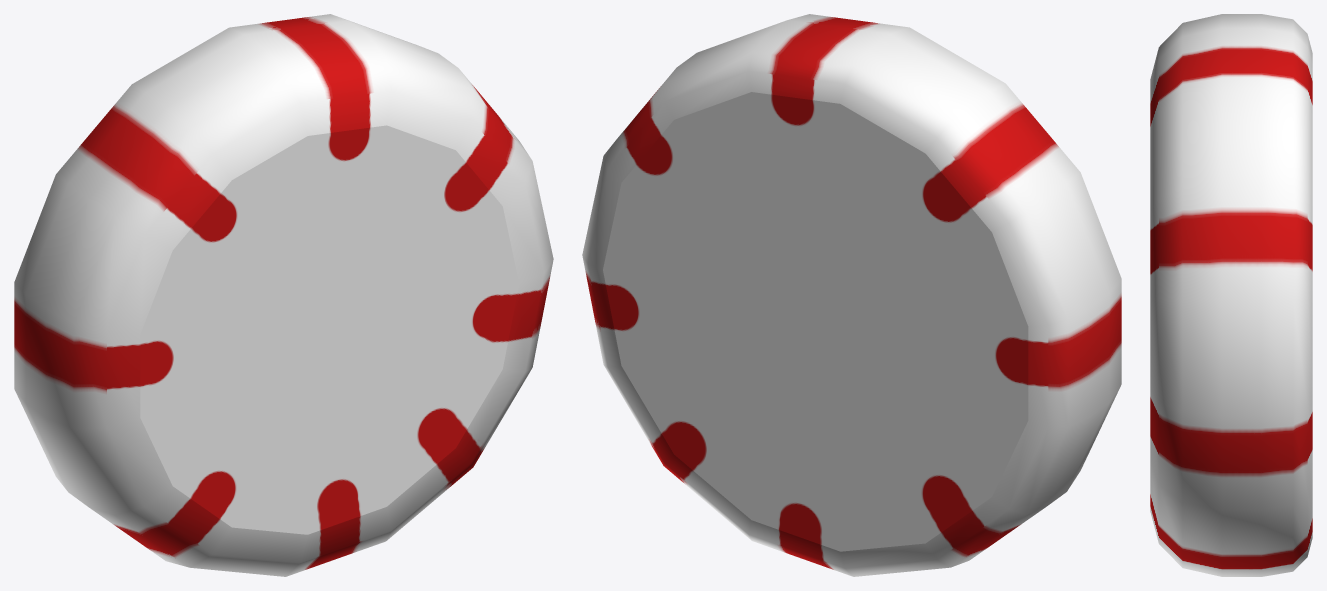
The model's file is Candy.fbx.
The picture shows the model from 3 angles, left to right: view 1: azimuth 30°, elevation 25°; view 2: azimuth 150°, elevation 25°; view 3: azimuth 270°, elevation 25°; orthographic projection. The views are drawn at different scales.
Parts seen in each view (by area): view 1: pCylinder1; view 2: pCylinder1; view 3: pCylinder1.
Part boxes in pixels (x1,y1,x2,y2): pCylinder1: [14, 14, 553, 576]; pCylinder1: [582, 14, 1121, 576]; pCylinder1: [1150, 14, 1312, 576].
Bounding box in the file's own units: 63.38 × 63.73 × 18.41.
1 material, 1 textured.
